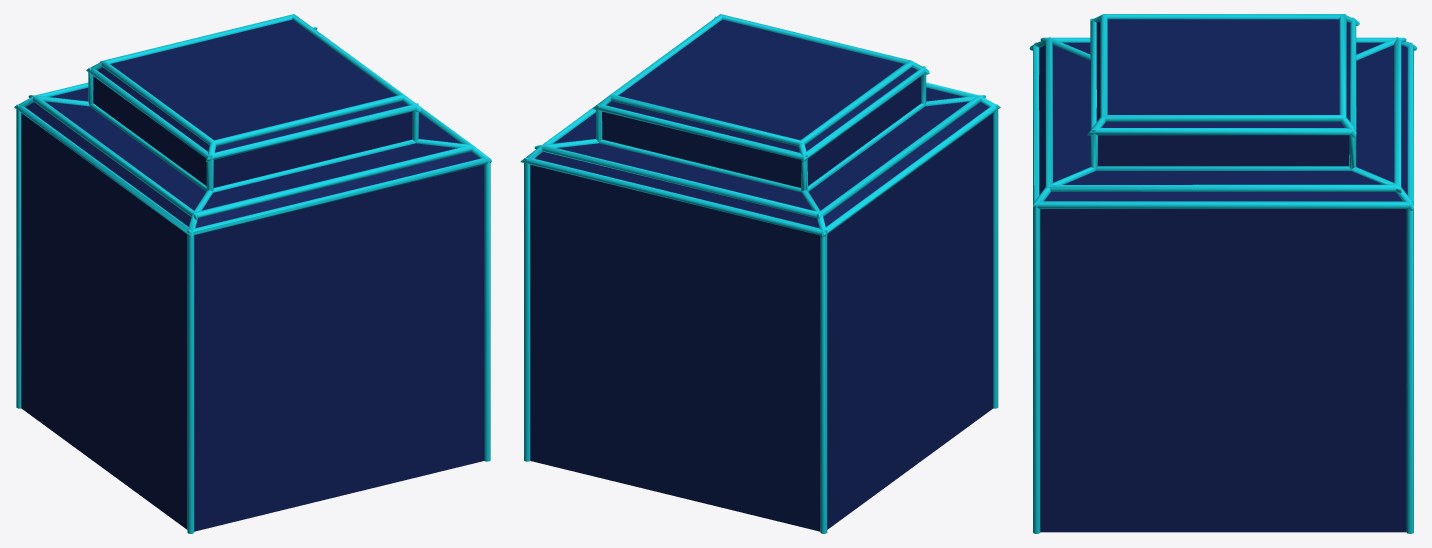
The model's file is Cube_Mapa01_01.FBX.
The picture shows the model from 3 angles, left to right: view 1: azimuth 30°, elevation 25°; view 2: azimuth 150°, elevation 25°; view 3: azimuth 270°, elevation 25°; orthographic projection. The views are drawn at different scales.
Visible parts, largest first — view 1: Box001, Shape001; view 2: Box001, Shape001; view 3: Box001, Shape001.
Part boxes in pixels (x1,y1,x2,y2): Box001: [21, 19, 484, 531]; Shape001: [14, 14, 491, 533]; Box001: [530, 19, 993, 531]; Shape001: [520, 14, 1000, 533]; Box001: [1039, 19, 1407, 532]; Shape001: [1029, 14, 1417, 533].
Bounding box in the file's own units: 103 × 115 × 104.
